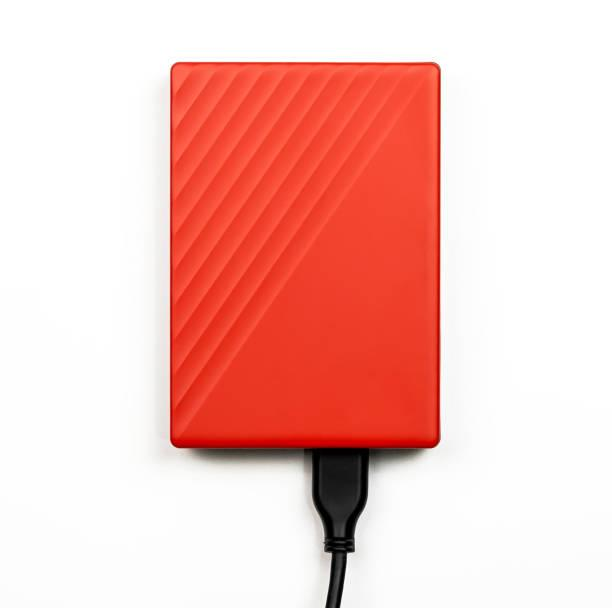HDD: (168, 62, 442, 454)
